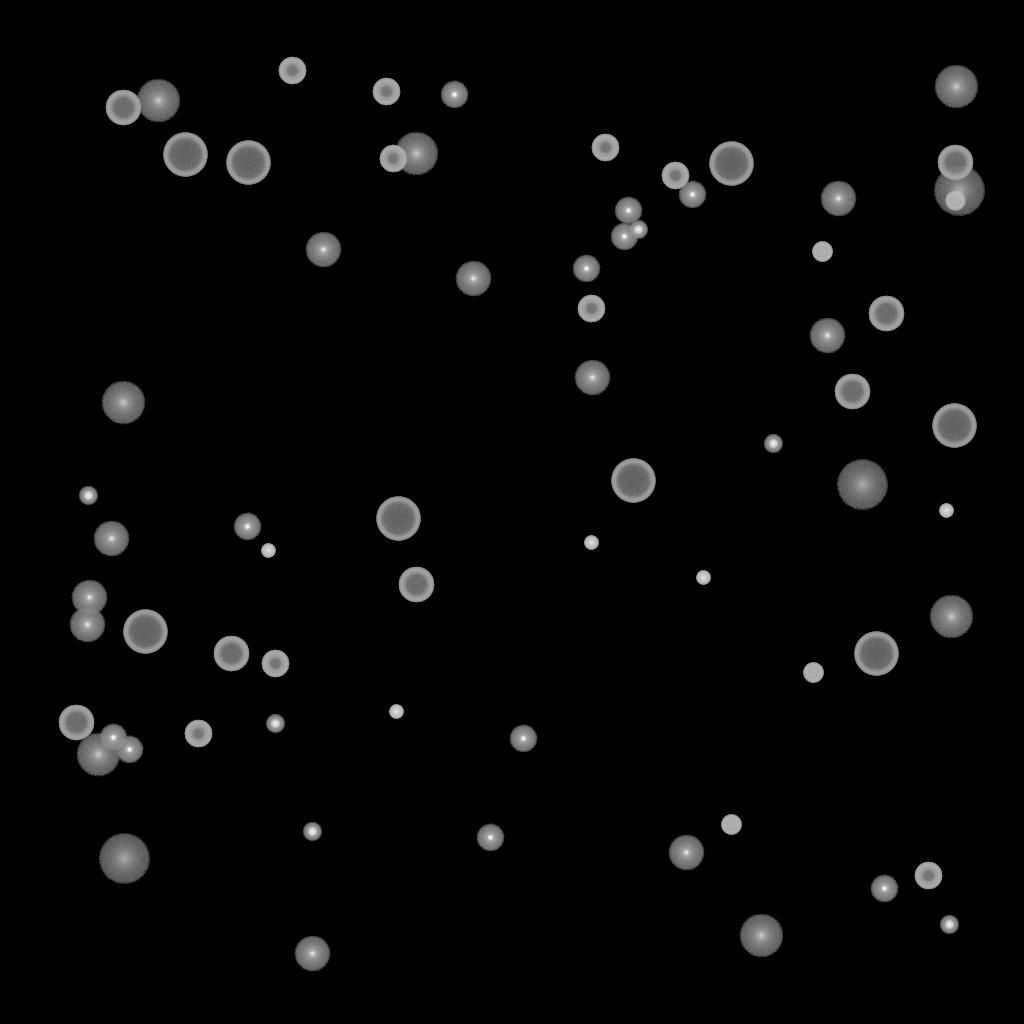depth:-10: (678, 181, 706, 209), (610, 223, 638, 251), (99, 724, 127, 752), (870, 875, 898, 903), (115, 736, 143, 764), (614, 197, 642, 225), (572, 255, 600, 283), (233, 513, 261, 541), (440, 81, 468, 109), (476, 824, 504, 852), (509, 725, 537, 753)
depth:-20: (303, 823, 321, 841), (764, 435, 782, 453), (79, 487, 97, 505), (266, 715, 284, 733), (629, 221, 647, 239), (940, 916, 958, 934)
depth:-30: (261, 544, 275, 558), (696, 571, 710, 585), (939, 504, 953, 518), (584, 536, 598, 550), (389, 705, 403, 719)
depth:-40: (945, 191, 965, 211), (803, 663, 823, 683), (812, 242, 832, 262), (721, 815, 741, 835)
depth:-50: (591, 134, 619, 162), (661, 162, 689, 190), (577, 295, 605, 323), (379, 145, 407, 173), (184, 720, 212, 748), (372, 78, 400, 106), (261, 650, 289, 678), (914, 862, 942, 890), (278, 57, 306, 85)
depth:-60: (868, 296, 904, 332), (834, 374, 870, 410), (105, 90, 141, 126), (937, 145, 973, 181), (213, 636, 249, 672), (398, 567, 434, 603), (58, 705, 94, 741)
depth:-70: (163, 133, 207, 177), (709, 142, 753, 186), (611, 459, 655, 503), (123, 610, 167, 654), (854, 632, 898, 676), (376, 497, 420, 541), (932, 404, 976, 448), (226, 141, 270, 185)
depth:0: (668, 835, 704, 871), (305, 232, 341, 268), (93, 521, 129, 557), (71, 580, 107, 616), (820, 181, 856, 217), (69, 607, 105, 643), (574, 360, 610, 396), (809, 318, 845, 354), (294, 936, 330, 972), (455, 261, 491, 297)
depth:10: (101, 381, 145, 425), (934, 65, 978, 109), (76, 733, 120, 777), (929, 595, 973, 639), (394, 132, 438, 176), (739, 914, 783, 958), (136, 79, 180, 123)
depth:20: (836, 460, 888, 510), (98, 834, 150, 884), (933, 166, 985, 216)
